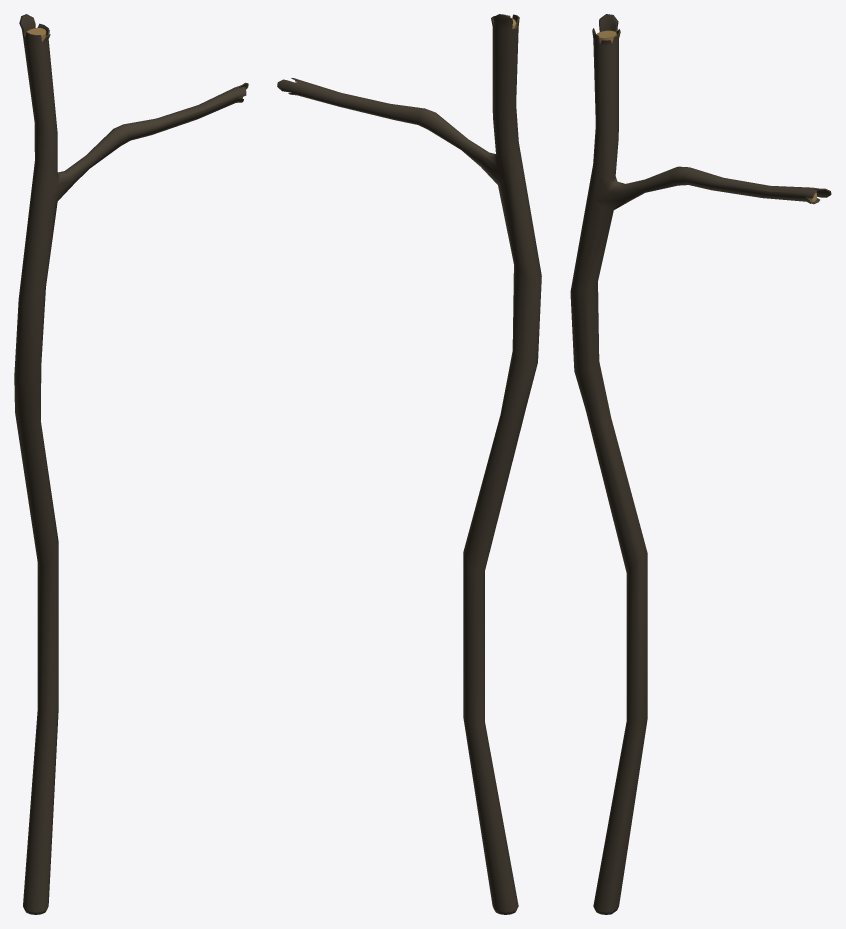
The model's file is BirdStick.fbx.
3 views of the same model, side by side, from view 1: azimuth 30°, elevation 25°; view 2: azimuth 150°, elevation 25°; view 3: azimuth 330°, elevation 25° (orthographic).
Visible parts, largest first — view 1: BirdStaff; view 2: BirdStaff; view 3: BirdStaff.
Part boxes in pixels (x1,y1,x2,y2): BirdStaff: (14,14,248,914); BirdStaff: (277,14,541,914); BirdStaff: (570,14,831,914).
Bounding box in the file's own units: 65.52 × 229 × 14.03.
Materials: 1 (1 with a texture image).
